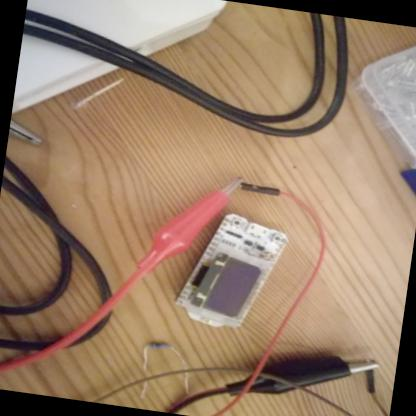Heltec_ESP32_Lora: (171, 204, 292, 339)
